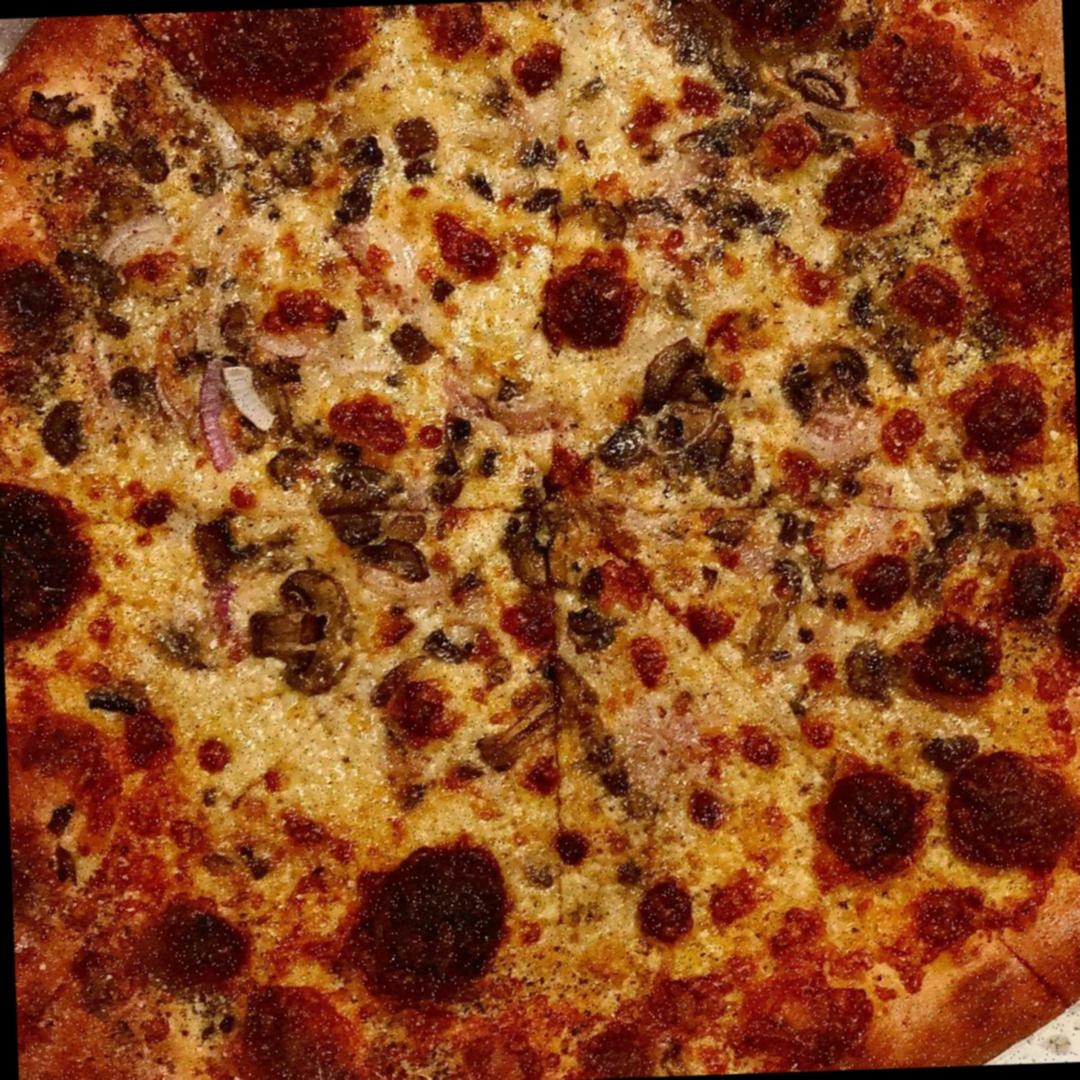Mushroom: (239, 564, 365, 703)
Pizza: (0, 0, 1080, 1080)
